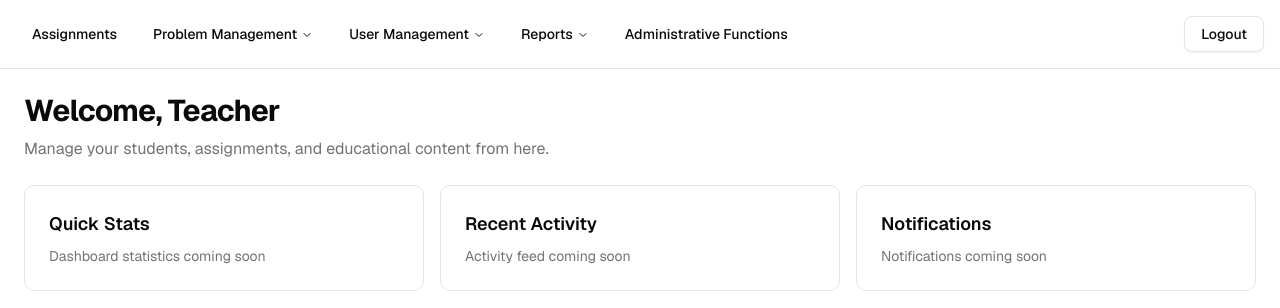
Teacher Navigation - Scenarios 3-7 › Scenario 4: Problem Management Dropdown › should show 2 dropdown items when Problem Management is clicked
Click the button "Problem Management": {"x": 233, "y": 34} top-left (137, 16), bottom-right (329, 52)
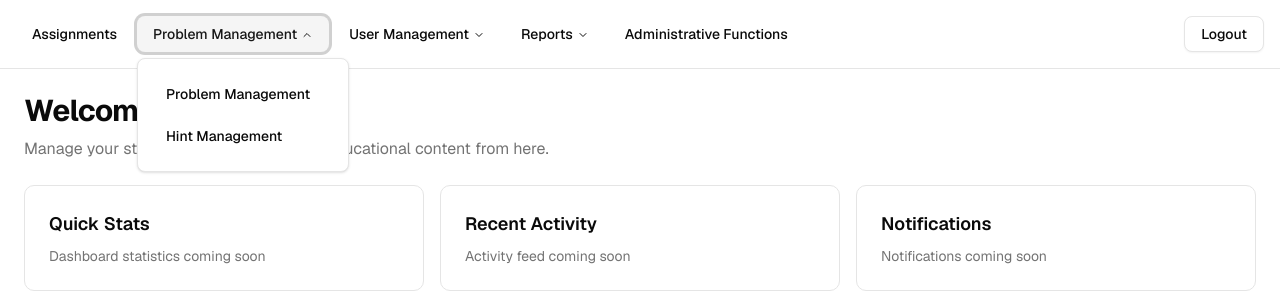
Expected: the link "Problem Management" is shown, top-left (166, 85), bottom-right (310, 103)
Expected: the link "Hint Management" is shown, top-left (166, 127), bottom-right (282, 145)
